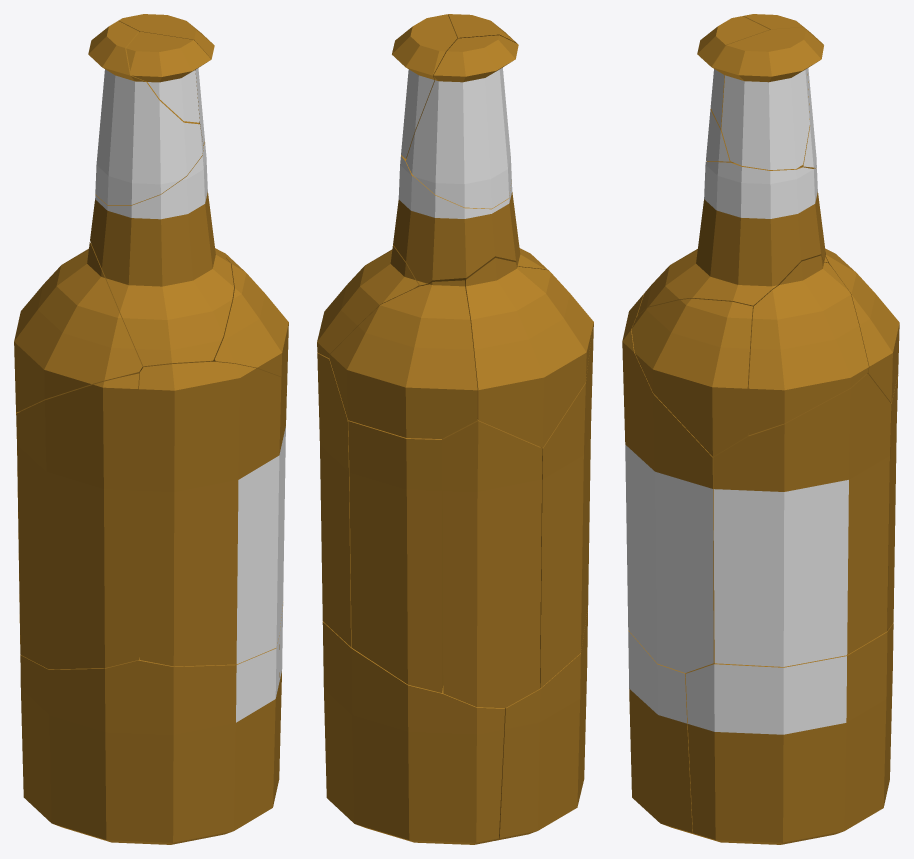
The model's file is LowPolyBottleShattered1.glb.
The picture shows the model from 3 angles, left to right: view 1: azimuth 30°, elevation 25°; view 2: azimuth 150°, elevation 25°; view 3: azimuth 270°, elevation 25°; orthographic projection.
Parts seen in each view (by area): view 1: Cylinder_cell.009, Cylinder_cell.004, Cylinder_cell.014, Cylinder_cell, Cylinder_cell.010, Cylinder_cell.001, Cylinder_cell.003, Cylinder_cell.013, Cylinder_cell.011, Cylinder_cell.006; view 2: Cylinder_cell.006, Cylinder_cell.008, Cylinder_cell.012, Cylinder_cell.002, Cylinder_cell.010, Cylinder_cell.001, Cylinder_cell.014, Cylinder_cell.009, Cylinder_cell, Cylinder_cell.007, Cylinder_cell.005, Cylinder_cell.011 (+1 smaller); view 3: Cylinder_cell.007, Cylinder_cell.006, Cylinder_cell.004, Cylinder_cell, Cylinder_cell.005, Cylinder_cell.003, Cylinder_cell.011, Cylinder_cell.009, Cylinder_cell.002, Cylinder_cell.013, Cylinder_cell.001, Cylinder_cell.012.
Boxes of the visible parts, x1,y1,x2,y2 form: Cylinder_cell.009: (20,635,279,844); Cylinder_cell.004: (139,361,286,666); Cylinder_cell.014: (16,373,139,669); Cylinder_cell: (90,141,233,366); Cylinder_cell.010: (14,242,143,412); Cylinder_cell.001: (88,21,203,204); Cylinder_cell.003: (209,258,288,392); Cylinder_cell.013: (126,31,211,122); Cylinder_cell.011: (118,14,214,144); Cylinder_cell.006: (276,602,283,789); Cylinder_cell.006: (322,621,504,844); Cylinder_cell.008: (442,419,542,707); Cylinder_cell.012: (348,420,443,692); Cylinder_cell.002: (329,280,477,438); Cylinder_cell.010: (465,258,592,447); Cylinder_cell.001: (406,35,518,208); Cylinder_cell.014: (540,317,593,688); Cylinder_cell.009: (494,608,587,840); Cylinder_cell: (389,155,548,286); Cylinder_cell.007: (317,353,351,646); Cylinder_cell.005: (317,246,419,358); Cylinder_cell.011: (392,14,457,158); Cylinder_cell.007: (713,373,891,666); Cylinder_cell.006: (685,623,893,844); Cylinder_cell.004: (622,294,714,672); Cylinder_cell: (637,162,827,315); Cylinder_cell.005: (748,255,868,435); Cylinder_cell.003: (631,298,753,456); Cylinder_cell.011: (712,27,823,169); Cylinder_cell.009: (628,630,698,835); Cylinder_cell.002: (825,249,899,403); Cylinder_cell.013: (697,16,769,128); Cylinder_cell.001: (706,14,823,168); Cylinder_cell.012: (887,374,898,630).
Bounding box in the file's own units: 0.6861 × 2.1 × 0.6907.
